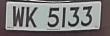1: (60, 4, 69, 31)
3: (68, 5, 81, 30), (81, 5, 94, 30)
5: (46, 5, 61, 31)
K: (25, 6, 40, 31)
W: (11, 5, 26, 29)
